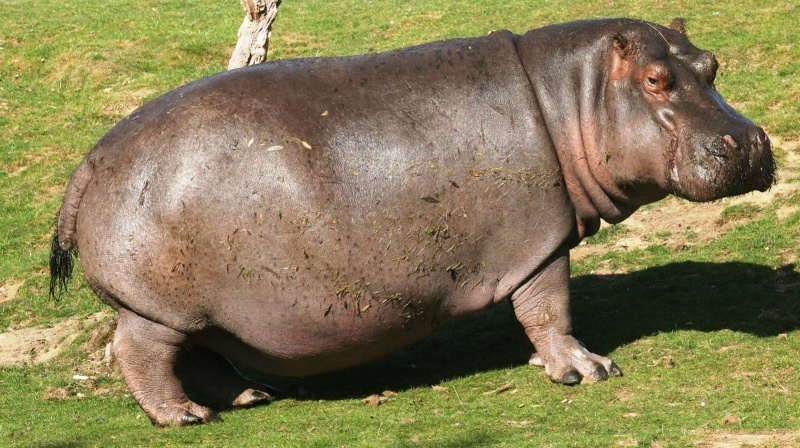hipopotamo: (30, 6, 784, 431)
